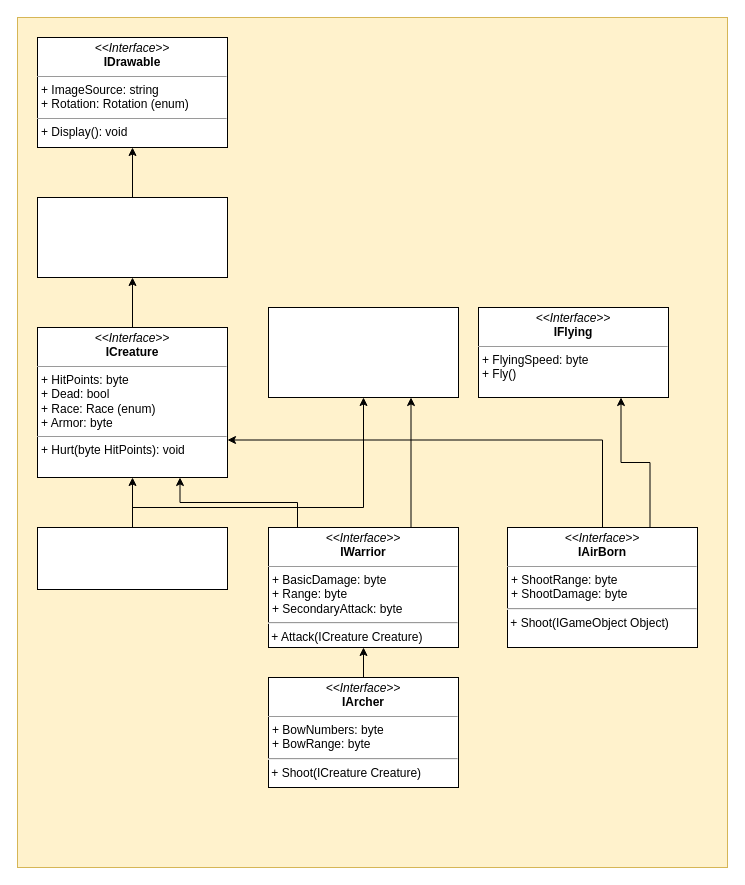
Some shapes in this 745 by 885 pixel diagram are drawn without their labels. Here are the shapes that lost their labels. From the top down, the box of each, then its label:
(36, 196, 228, 278): <<Interface>> IGameObject + Position: Point + Traversable: bool
(268, 306, 458, 398): <<Interface>> IMovable + MovementSpeed: byte + Move()
(36, 526, 228, 590): <<Interface>> IPeasant
